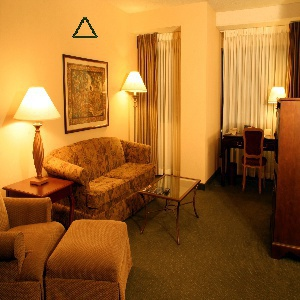triangle: (68, 13, 101, 40)
